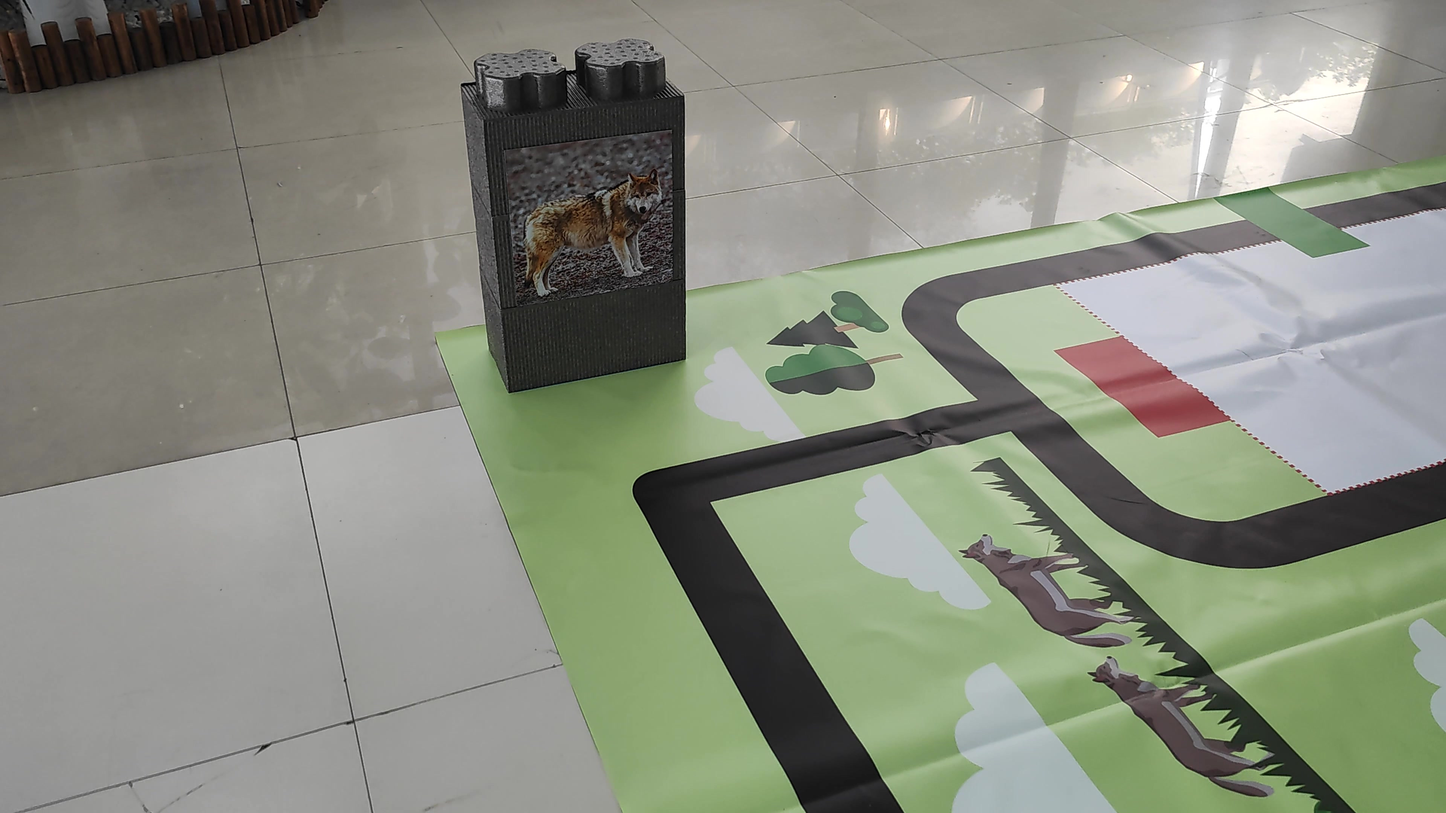wolf: (511, 158, 667, 308)
